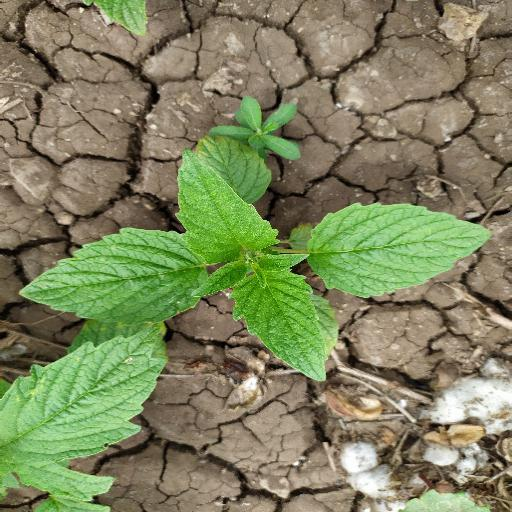crop: (9, 90, 504, 380)
